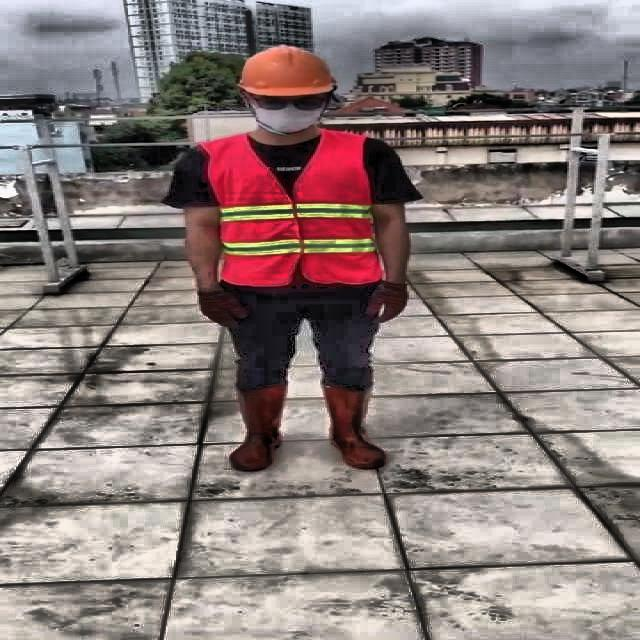safety_jacket: (210, 131, 377, 286)
